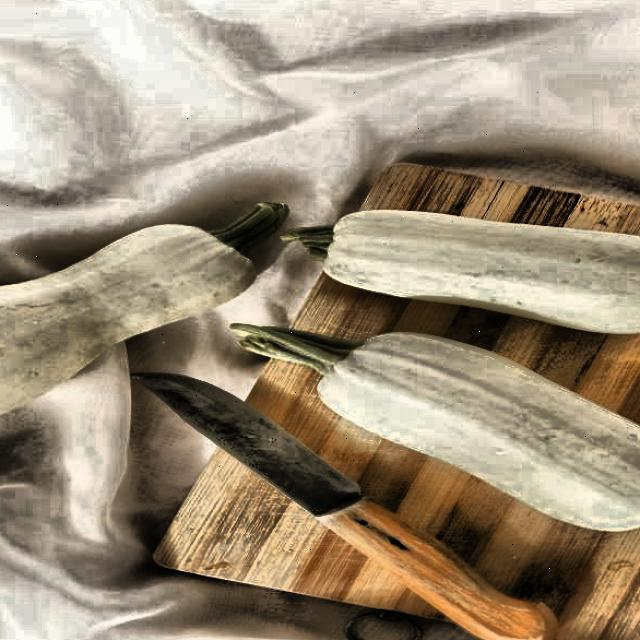knife: (130, 367, 566, 640)
